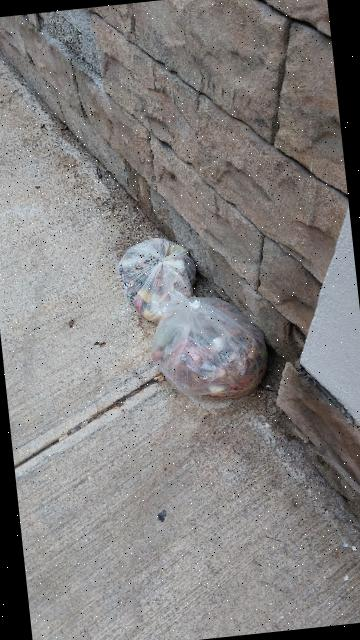Organic -White-: (152, 290, 268, 400), (117, 237, 196, 323)
